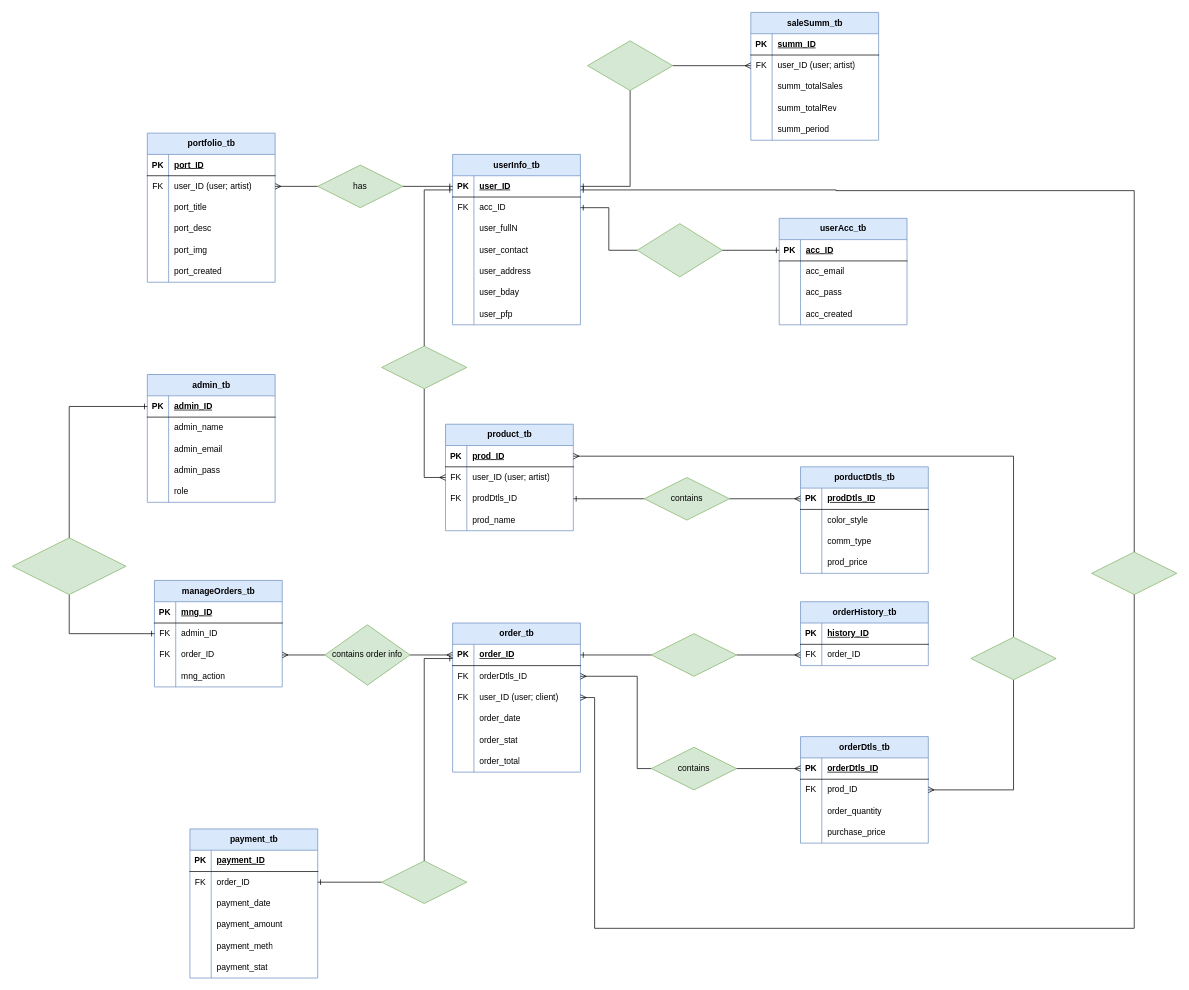
Some shapes in this 1189 by 990 pixel diagram are drawn without their labels. Here are the shapes that lost their labels. From the top down, the centre of each, then its label:
the point at 630,65: reviews summary
the point at 679,250: contains user information
the point at 424,367: uploads
the point at 69,566: manages completed orders
the point at 1134,573: places
the point at 694,654: displays order history
the point at 1013,658: conatins specifics of the order
the point at 424,881: check out payment
